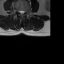CCS_normal: (20, 8, 22, 16)
LFS_normal: (24, 9, 26, 15)
LLS_normal: (22, 9, 24, 15)
RFS_normal: (16, 8, 18, 14)
RLS_normal: (19, 8, 20, 14)
